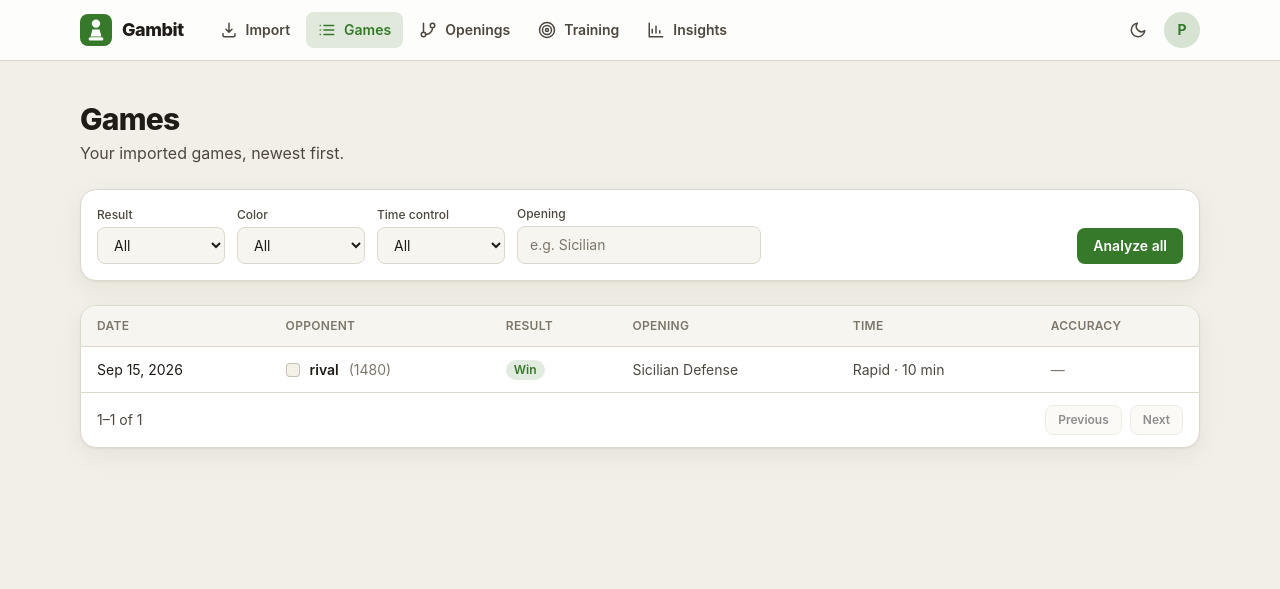
opens a game when its row is clicked
Click the text "rival".
click(324, 370)  # box [310,360,339,380]
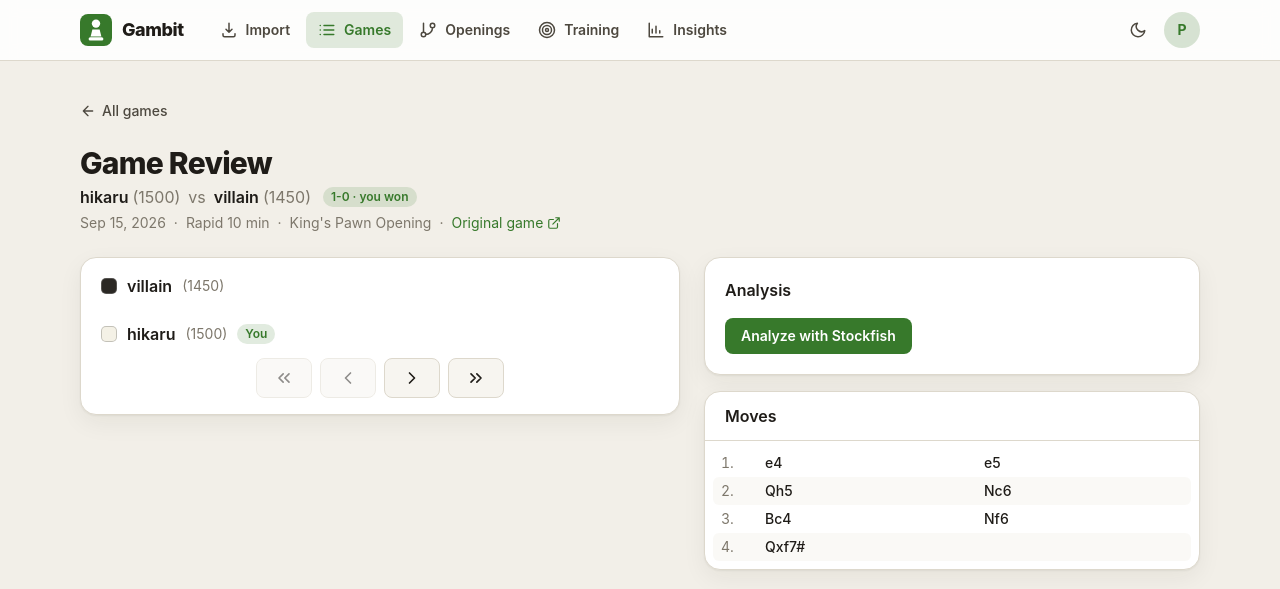
Result: the heading "Game Review" is shown at [80,145,272,181]
